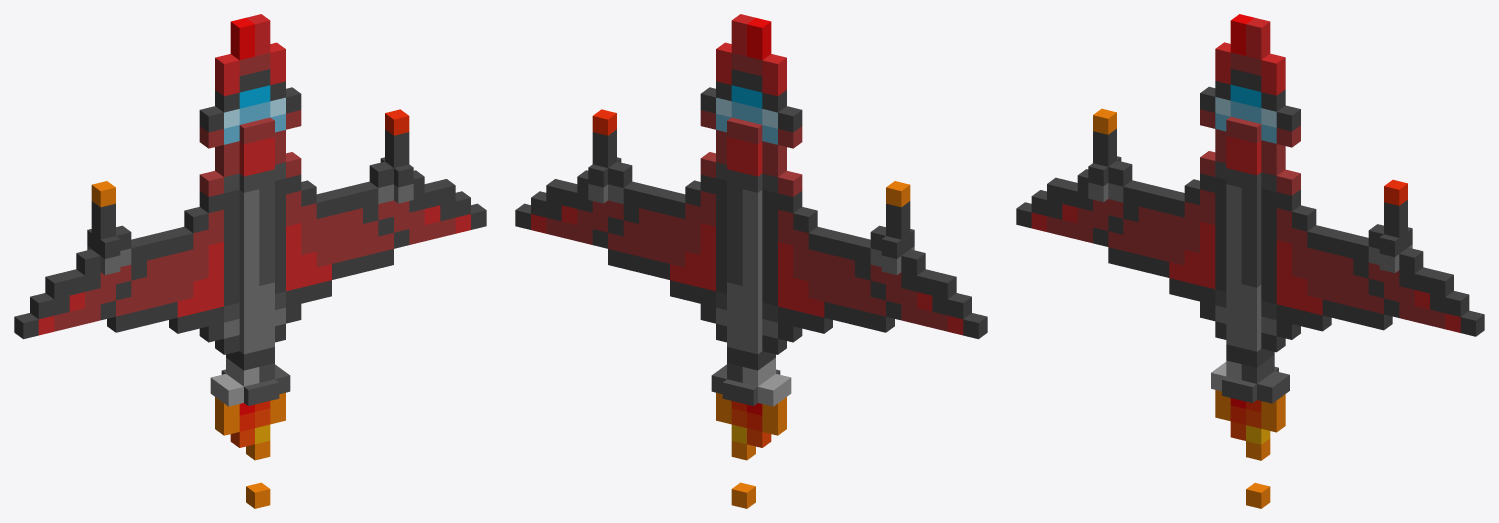
3 renders of one model, left to right at view 1: azimuth 30°, elevation 25°; view 2: azimuth 150°, elevation 25°; view 3: azimuth 330°, elevation 25°, orthographic.
Parts seen in each view (by area): view 1: generated; view 2: generated; view 3: generated.
Part boxes in pixels (<box>): generated: <box>14,14,486,508</box>; generated: <box>515,14,987,508</box>; generated: <box>1016,14,1484,508</box>.
Bounding box in the file's own units: 30 × 30 × 3.
